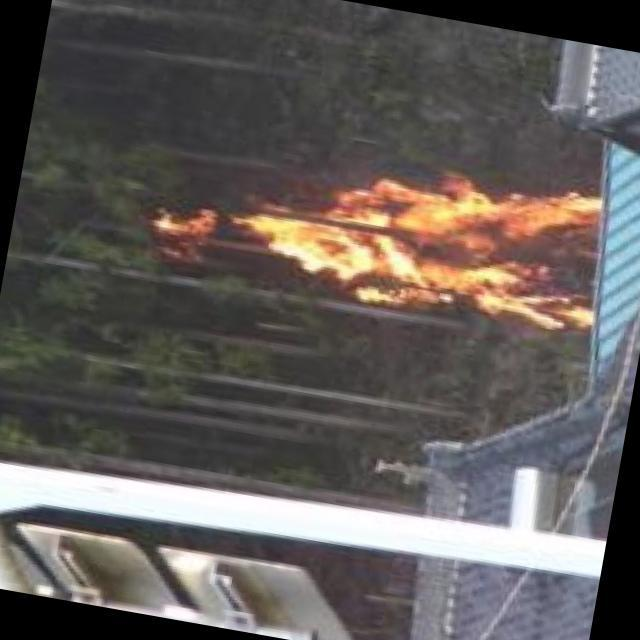Fire: (144, 118, 617, 366)
